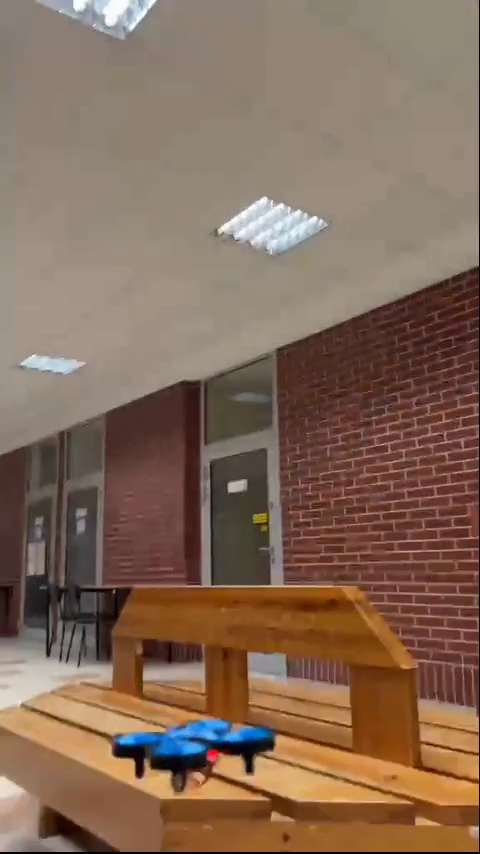drone: (122, 722, 271, 785)
